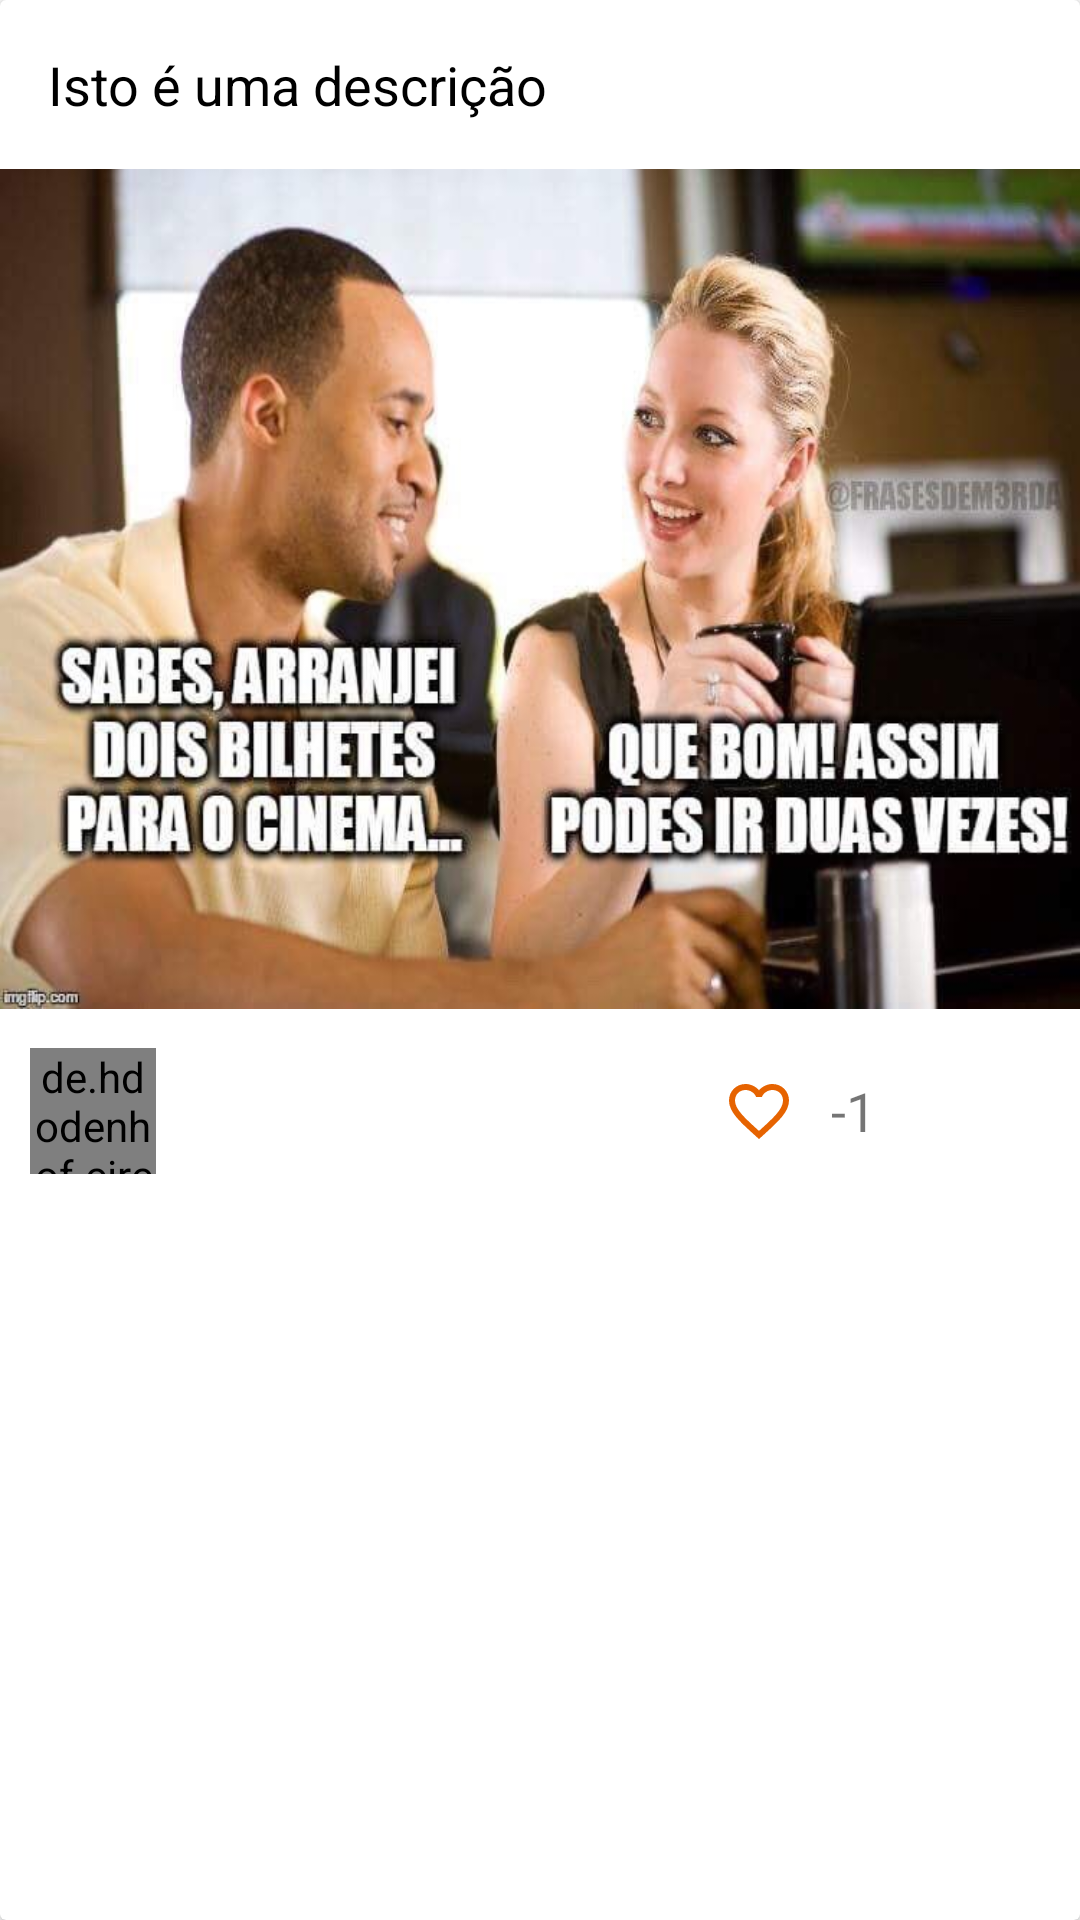

Icon click points for this 1080 × 1920 phone screenshot, format [x,y]:
like border: [759,1111]
